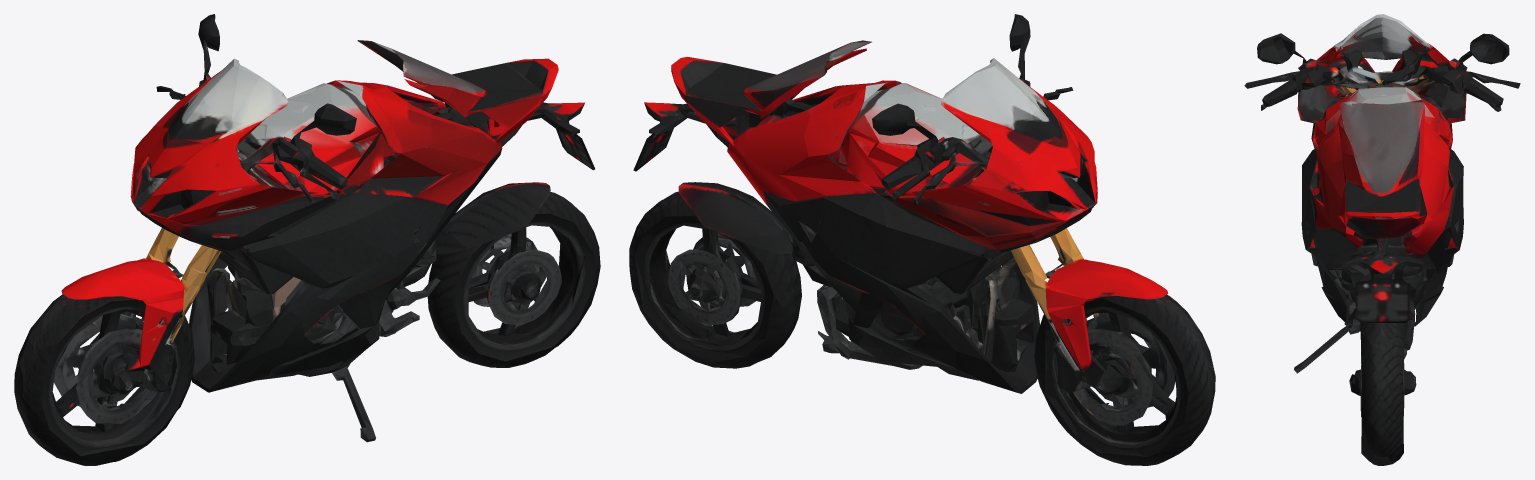
File: street_racer_refined.glb
3 renders of one model, left to right at view 1: azimuth 30°, elevation 25°; view 2: azimuth 150°, elevation 25°; view 3: azimuth 270°, elevation 25°, orthographic. The views are drawn at different scales.
Bounding box in the file's own units: 1.9 × 1.15 × 0.8891.
Materials: 1 (1 with a texture image).
